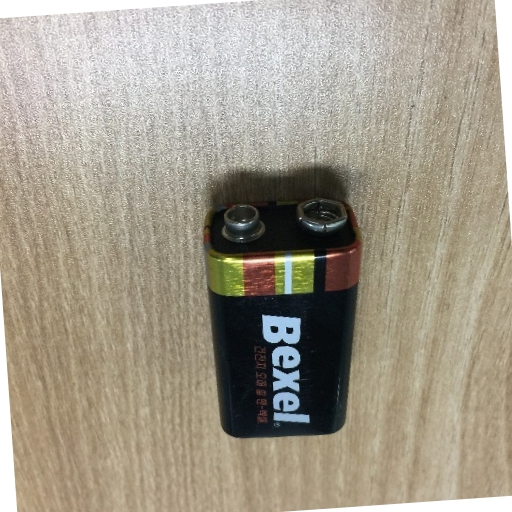Battery_3: (189, 182, 380, 452)
